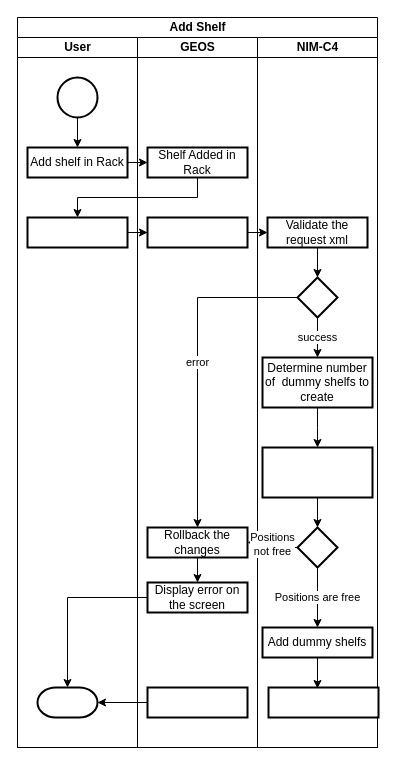
The diagram is 397 pixels wide and 765 high, and some of its shapes have lost their labels. The centre of each missing label's shape, as x and y in pixels:
"Check if the positions are free or not" goes at (317,472).
"Save the racks shelfs" goes at (197,702).
"Send add shelf request to NIM" goes at (197,232).
"Send success response" goes at (323,702).
"status" goes at (317,297).
"Submit the changes" goes at (77,232).
